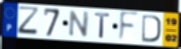7: (42, 7, 61, 38)
D: (141, 14, 163, 44)
F: (117, 10, 141, 44)
N: (67, 10, 91, 38)
T: (93, 11, 111, 39)
Z: (17, 5, 41, 37)
